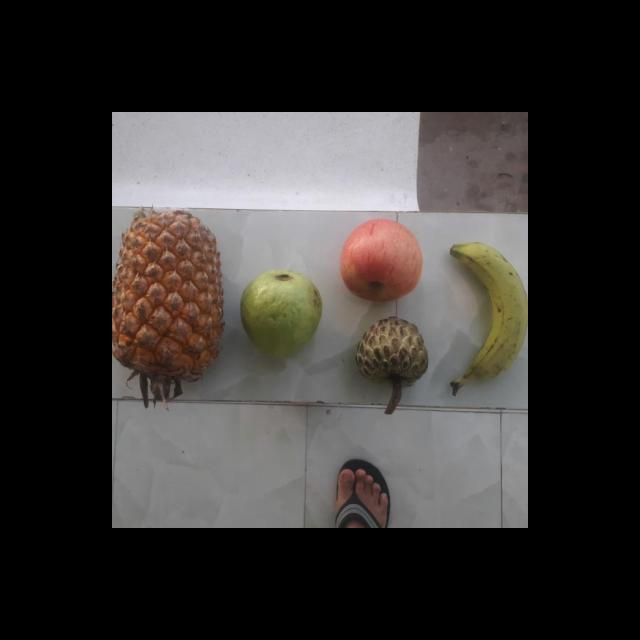Sakya fruit: (351, 318, 429, 397)
apple: (337, 218, 427, 303)
banana: (448, 242, 527, 386)
guava: (238, 270, 321, 356)
pineapple: (112, 208, 221, 386)
